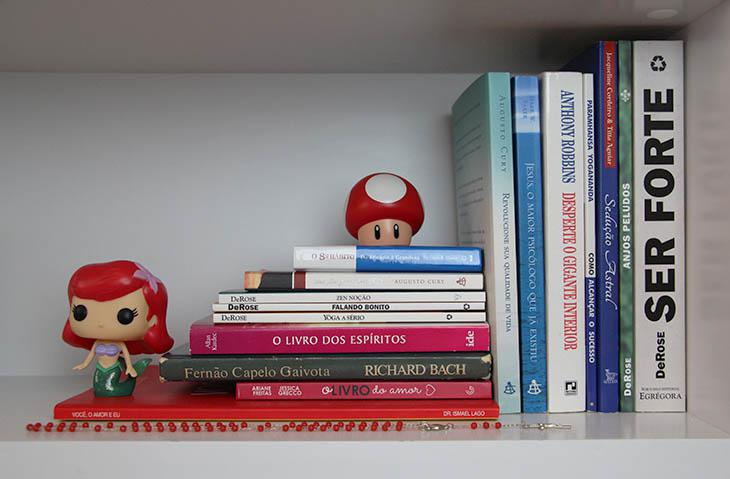book: (639, 45, 682, 411), (555, 80, 576, 408), (524, 84, 545, 412), (172, 360, 487, 380), (62, 408, 497, 421), (503, 102, 518, 410), (240, 384, 490, 398), (251, 275, 484, 289), (297, 251, 478, 268), (227, 294, 483, 302)
